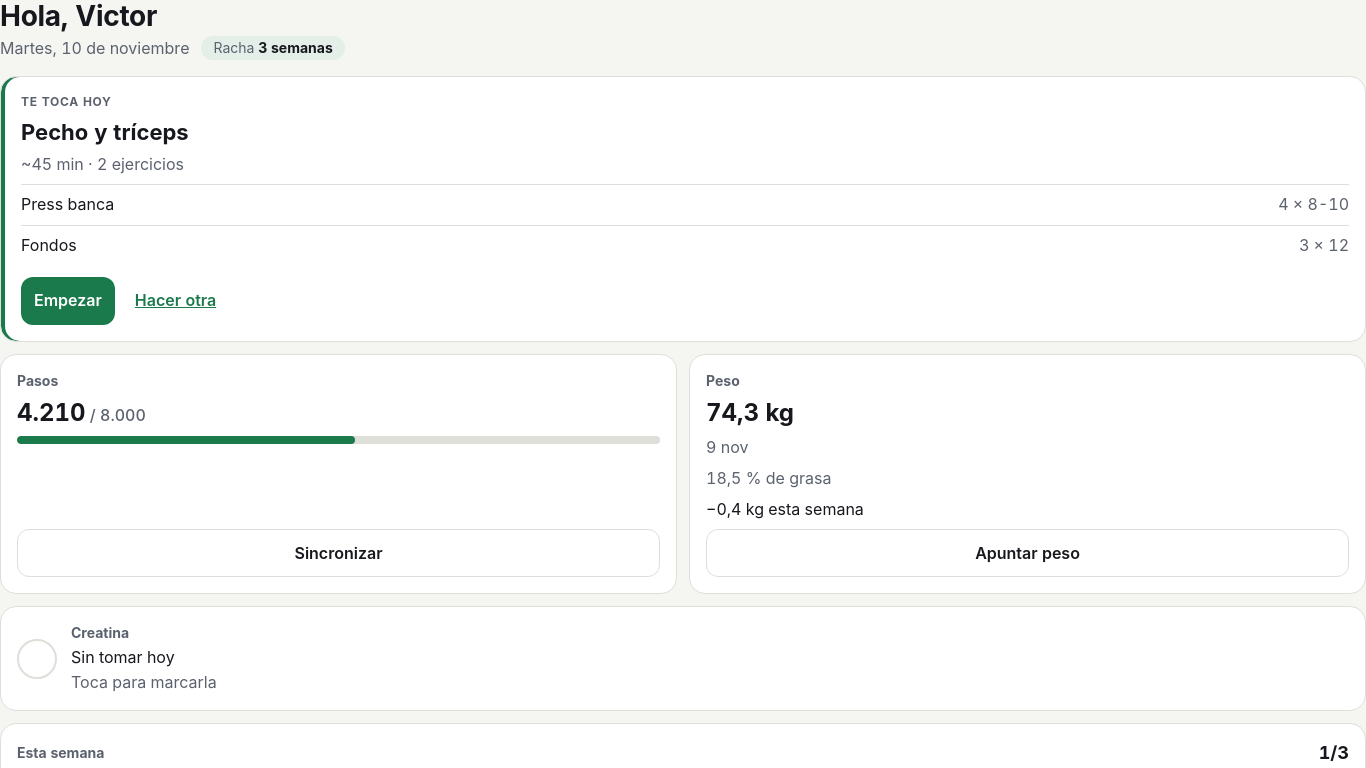
Test: Hoy: hoja Apuntar peso › sin ?peso=1 la hoja empieza cerrada y al cerrarla se queda cerrada
Expected: the heading "Hola, Victor" is shown, [0,0,157,33]
Click the button "Apuntar peso": (1028, 554) [706,530,1349,578]
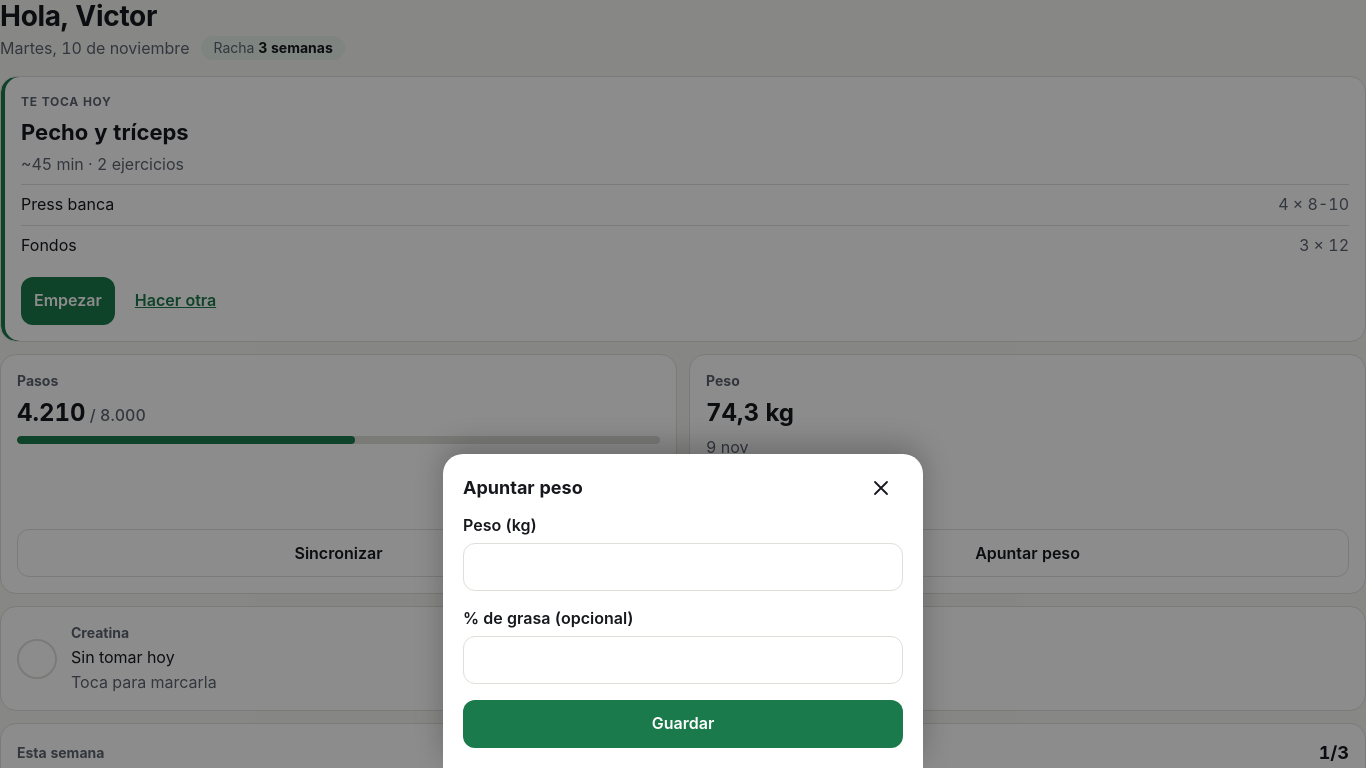
Click the button named "Cerrar": (881, 488) [859,466,903,510]
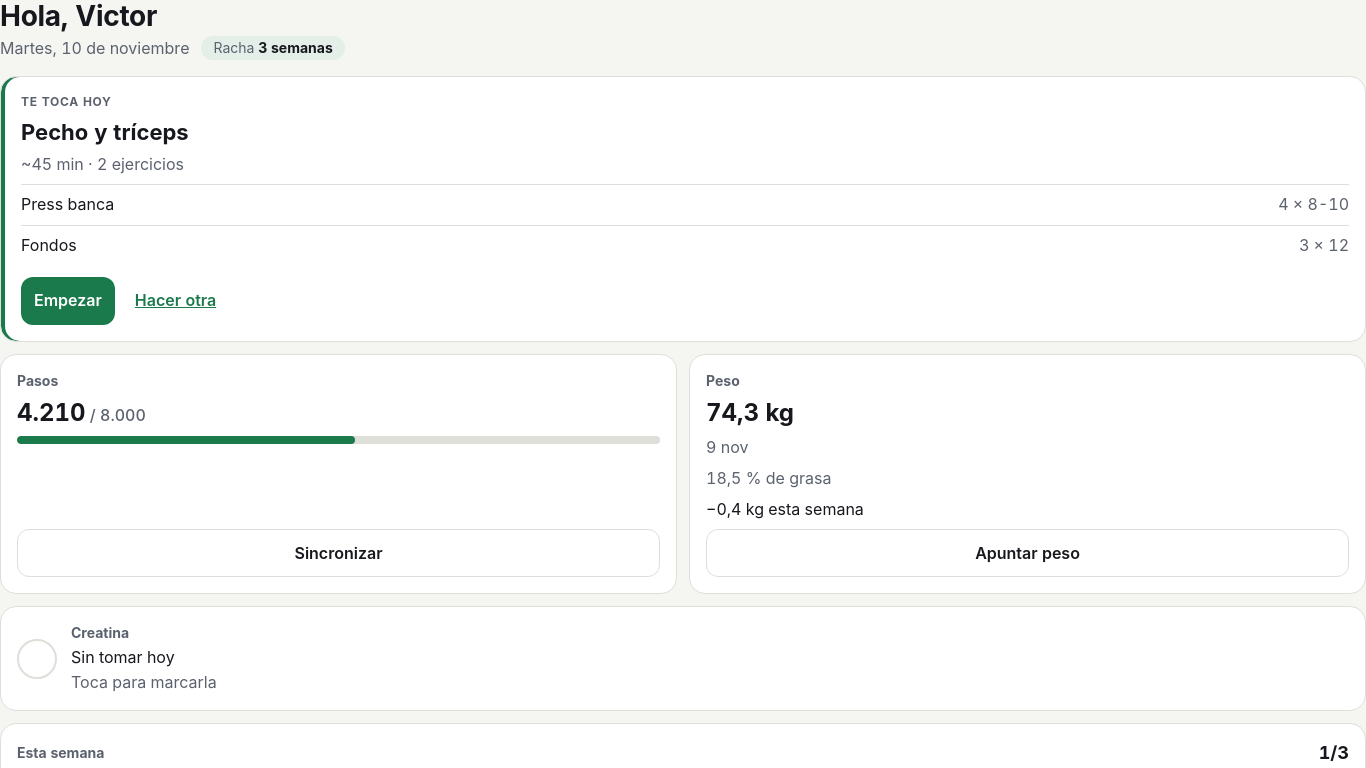
Expected: the dialog is gone
